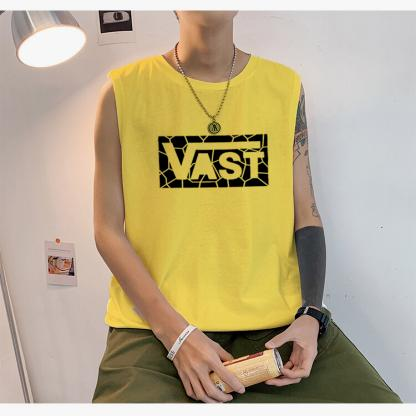jacket: (103, 54, 310, 329)
